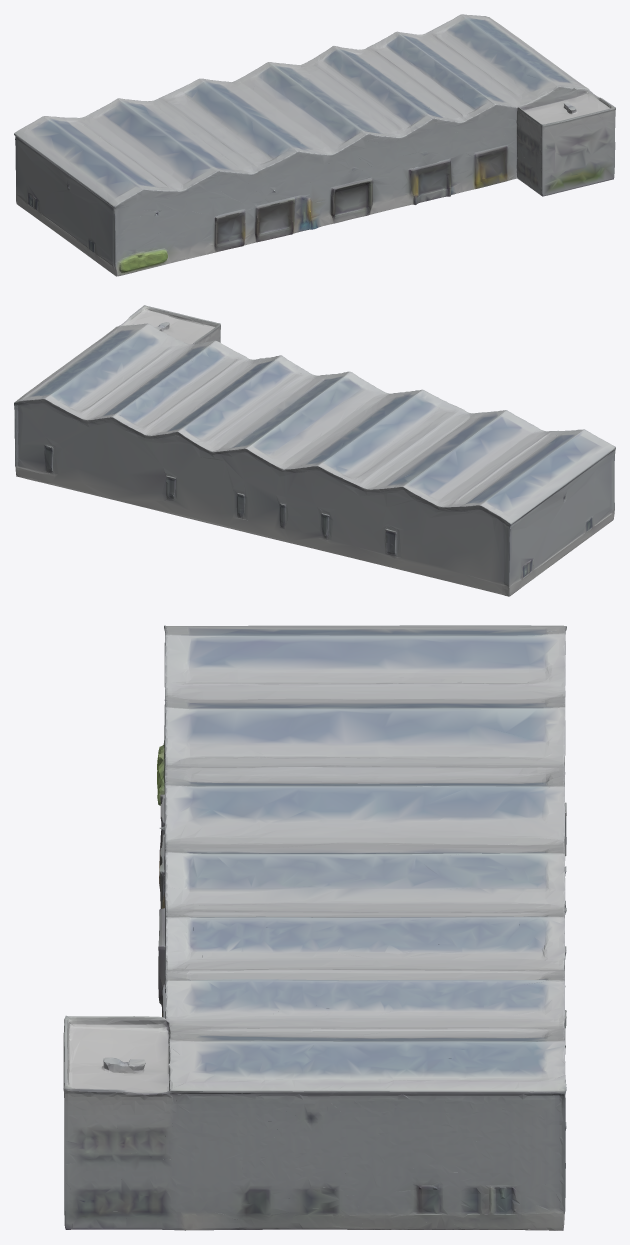
File: warehouse.glb
The picture shows the model from 3 angles, top to bottom: view 1: azimuth 30°, elevation 25°; view 2: azimuth 150°, elevation 25°; view 3: azimuth 270°, elevation 25°; orthographic projection. The views are drawn at different scales.
Parts seen in each view (by area): view 1: geometry_0; view 2: geometry_0; view 3: geometry_0.
Boxes of the visible parts, <box> form: geometry_0: <box>14,14,615,276</box>; geometry_0: <box>14,305,615,596</box>; geometry_0: <box>63,625,566,1230</box>.
Bounding box in the file's own units: 0.9985 × 0.1635 × 0.4564.
